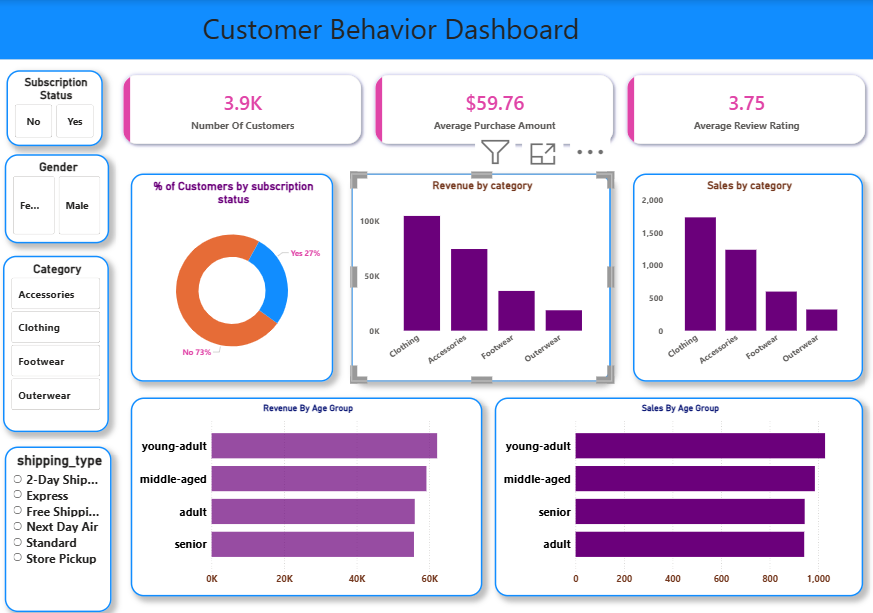

Layout of this report page (visuals, bound fields, positions):
{"tool":"powerbi","page":{"name":"Page 1","canvas":[1500,950],"ordinal":0},"visuals":[{"type":"cardVisual","fields":{"Data":["public customer.Number Of Customers","public customer.Average Purchase Amount","public customer.Average Review Rating"]},"box":[228.5,121.7,1271.5,191.2],"z":0},{"type":"shape","box":[0,0,1500,121.7],"z":1000},{"type":"textbox","box":[84.4,22.4,1211.9,82],"z":2000},{"type":"donutChart","title":"% of Customers by subscription status","fields":{"Category":["public customer.subscription_status"],"Y":["CountNonNull(public customer.customer_id)"]},"box":[265.7,327.8,387.4,253.3],"z":3000},{"type":"shape","box":[249.9,302.7,416.5,338.7],"z":4000},{"type":"shape","box":[666.4,302.7,413.7,338.7],"z":5000},{"type":"shape","box":[1085.7,302.7,413.7,338.7],"z":6000},{"type":"clusteredColumnChart","title":"Revenue by category","fields":{"Y":["Sum(public customer.purchase_amount)"],"Category":["public customer.category"]},"box":[691.4,327.6,369.3,277.7],"z":7000},{"type":"clusteredColumnChart","title":"Sales by category","fields":{"Category":["public customer.category"],"Y":["CountNonNull(public customer.customer_id)"]},"box":[1113.4,338.7,369.3,266.6],"z":8000},{"type":"shape","box":[11.1,122.2,227.7,827.4],"z":9000},{"type":"advancedSlicerVisual","fields":{"Values":["public customer.subscription_status"]},"box":[40.3,158.6,185.5,118.3],"z":10000},{"type":"advancedSlicerVisual","fields":{"Values":["public customer.gender"]},"box":[29.6,303.9,199,145.2],"z":11000},{"type":"advancedSlicerVisual","fields":{"Values":["public customer.category"]},"box":[24.2,438.3,201.7,336.1],"z":12000},{"type":"listSlicer","fields":{"Values":["public customer.shipping_type"]},"box":[41.6,721.9,172.2,202.7],"z":13000},{"type":"clusteredBarChart","title":"Revenue By Age Group","fields":{"Y":["Sum(public customer.purchase_amount)"],"Category":["public customer.age_group"]},"box":[269.3,666.4,574.8,258.2],"z":14000},{"type":"shape","box":[244.3,641.4,619.2,308.2],"z":15000},{"type":"shape","box":[871.9,641.4,627.5,308.2],"z":16000},{"type":"clusteredBarChart","title":"Sales By Age Group","fields":{"Y":["CountNonNull(public customer.customer_id)"],"Category":["public customer.age_group"]},"box":[902.4,666.4,566.4,263.8],"z":17000}]}

Visuals, with their boxes on the page's 1500x950 design canvas (x1, y1, x2, y2). These are canvas units, not pixel positions in the 873x613 screenshot, which may show the page scaled, cropped or inside an application window:
cardVisual - public customer.Number Of Customers x public customer.Average Purchase Amount: region(228, 122, 1500, 313)
shape: region(0, 0, 1500, 122)
textbox: region(84, 22, 1296, 104)
"% of Customers by subscription status" donutChart: region(266, 328, 653, 581)
shape: region(250, 303, 666, 641)
shape: region(666, 303, 1080, 641)
shape: region(1086, 303, 1499, 641)
"Revenue by category" clusteredColumnChart: region(691, 328, 1061, 605)
"Sales by category" clusteredColumnChart: region(1113, 339, 1483, 605)
shape: region(11, 122, 239, 950)
advancedSlicerVisual - public customer.subscription_status: region(40, 159, 226, 277)
advancedSlicerVisual - public customer.gender: region(30, 304, 229, 449)
advancedSlicerVisual - public customer.category: region(24, 438, 226, 774)
listSlicer - public customer.shipping_type: region(42, 722, 214, 925)
"Revenue By Age Group" clusteredBarChart: region(269, 666, 844, 925)
shape: region(244, 641, 864, 950)
shape: region(872, 641, 1499, 950)
"Sales By Age Group" clusteredBarChart: region(902, 666, 1469, 930)
